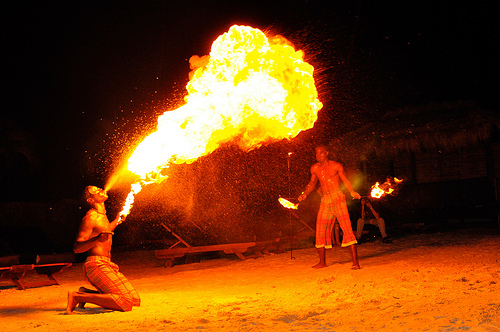fire: (114, 4, 320, 198)
